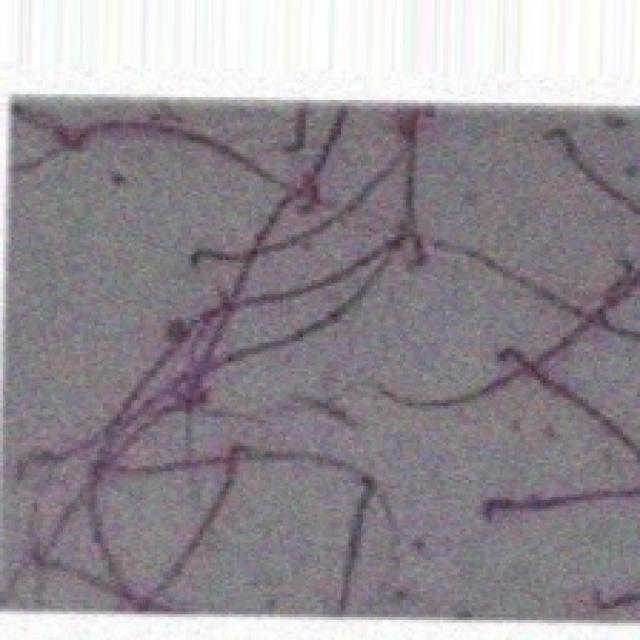Spiral_bacteria: (0, 95, 637, 614)
